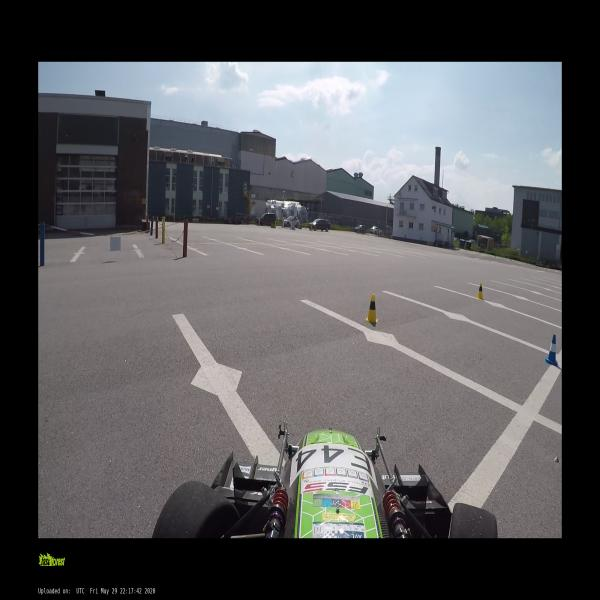blue_cone: (545, 335, 558, 366)
yellow_cone: (366, 294, 378, 323), (476, 282, 484, 300)
